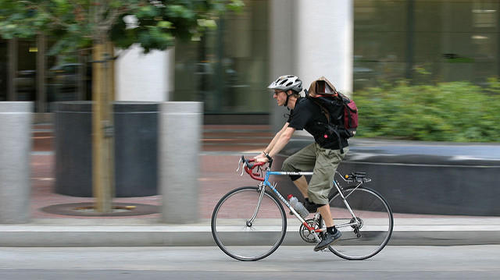bikerider: (214, 65, 398, 267)
